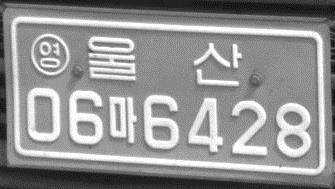0: (25, 85, 62, 143)
2: (229, 97, 269, 156)
4: (186, 96, 224, 153)
6: (142, 92, 180, 151), (67, 87, 104, 145)
8: (274, 101, 312, 159)
마: (106, 93, 139, 145)
영: (29, 32, 70, 77)
울산_D: (86, 33, 244, 87)
